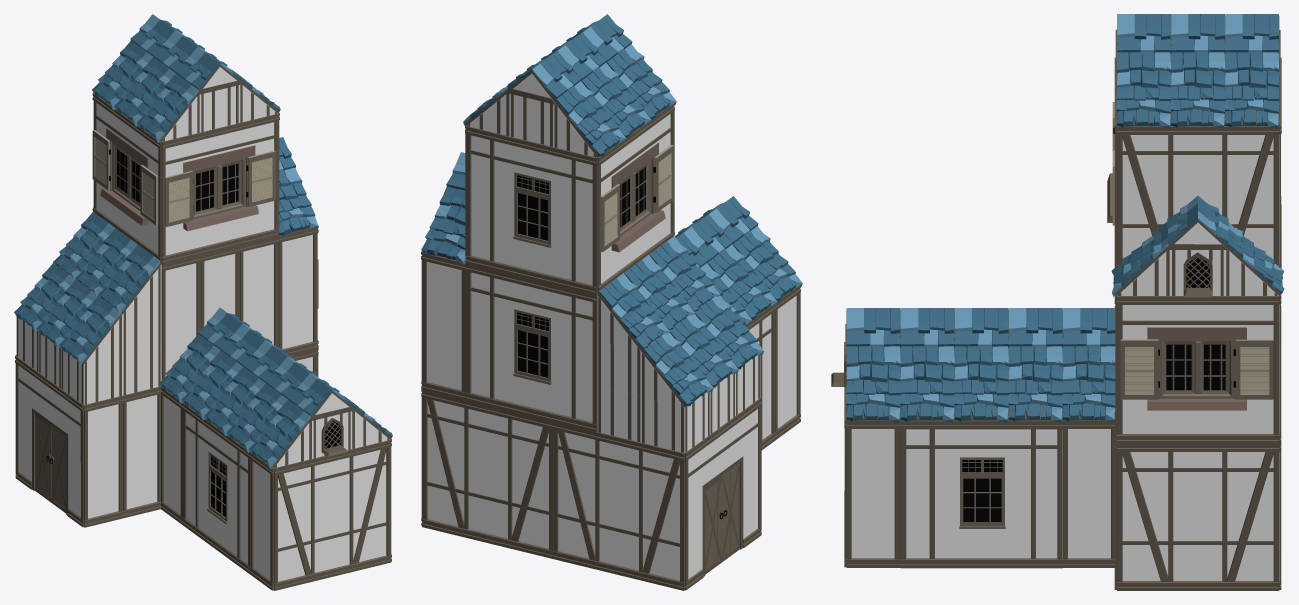
File: House_17_full.fbx
The picture shows the model from 3 angles, left to right: view 1: azimuth 30°, elevation 25°; view 2: azimuth 150°, elevation 25°; view 3: azimuth 270°, elevation 25°; orthographic projection. The views are drawn at different scales.
Visible parts, largest first — view 1: WINDOW_06_3, WALL_02_2, DOOR_03_2, WINDOW_03_2, WINDOW_06_4, WALL_03_8, WALL_03_10, WALL_03_7, WALL_03_13, WALL_03_11, WALL_03_4, WALL_03_3 (+40 smaller); view 2: WINDOW_03_5, WALL_02_5, WINDOW_03_4, WALL_02_4, DOOR_03_2, WINDOW_06_4, WALL_03_14, WALL_03_4, ROOF_base_16, ROOF_base_18, ROOF_base_17, ROOF_base_24 (+27 smaller); view 3: WINDOW_03_3, WINDOW_06_2, WALL_02_3, WALL_02_6, WALL_03_5, WALL_03_6, ROOF_base_5, ROOF_base_6, ROOF_base_4, ROOF_base_3, ROOF_base_21, ROOF_base_23 (+19 smaller).
Part boxes in pixels (bbox=[...]): WINDOW_06_3: bbox=[161, 113, 279, 264]; WALL_02_2: bbox=[273, 440, 391, 590]; DOOR_03_2: bbox=[15, 356, 83, 527]; WINDOW_03_2: bbox=[182, 403, 250, 573]; WINDOW_06_4: bbox=[92, 93, 161, 263]; WALL_03_8: bbox=[84, 395, 123, 527]; WALL_03_10: bbox=[278, 228, 317, 355]; WALL_03_7: bbox=[123, 386, 161, 517]; WALL_03_13: bbox=[161, 255, 201, 380]; WALL_03_11: bbox=[239, 236, 278, 347]; WALL_03_4: bbox=[249, 452, 273, 590]; WALL_03_3: bbox=[160, 386, 183, 524]; WINDOW_03_5: bbox=[465, 126, 597, 295]; WALL_02_5: bbox=[553, 422, 684, 590]; WINDOW_03_4: bbox=[465, 264, 597, 432]; WALL_02_4: bbox=[422, 390, 553, 558]; DOOR_03_2: bbox=[685, 398, 761, 590]; WINDOW_06_4: bbox=[597, 105, 674, 294]; WALL_03_14: bbox=[422, 252, 466, 400]; WALL_03_4: bbox=[774, 287, 800, 439]; ROOF_base_16: bbox=[597, 273, 669, 350]; ROOF_base_18: bbox=[554, 81, 626, 157]; ROOF_base_17: bbox=[641, 332, 713, 406]; ROOF_base_24: bbox=[421, 186, 466, 264]; WINDOW_03_3: bbox=[900, 420, 1062, 568]; WINDOW_06_2: bbox=[1117, 296, 1279, 443]; WALL_02_3: bbox=[1117, 444, 1279, 590]; WALL_02_6: bbox=[1117, 126, 1279, 266]; WALL_03_5: bbox=[846, 420, 900, 567]; WALL_03_6: bbox=[1063, 420, 1115, 567]; ROOF_base_5: bbox=[900, 346, 954, 422]; ROOF_base_6: bbox=[846, 345, 900, 422]; ROOF_base_4: bbox=[954, 346, 1008, 422]; ROOF_base_3: bbox=[1008, 346, 1062, 422]; ROOF_base_21: bbox=[1224, 52, 1279, 128]; ROOF_base_23: bbox=[1116, 52, 1171, 128].
Bounding box in the file's own units: 638 × 1059 × 838.
